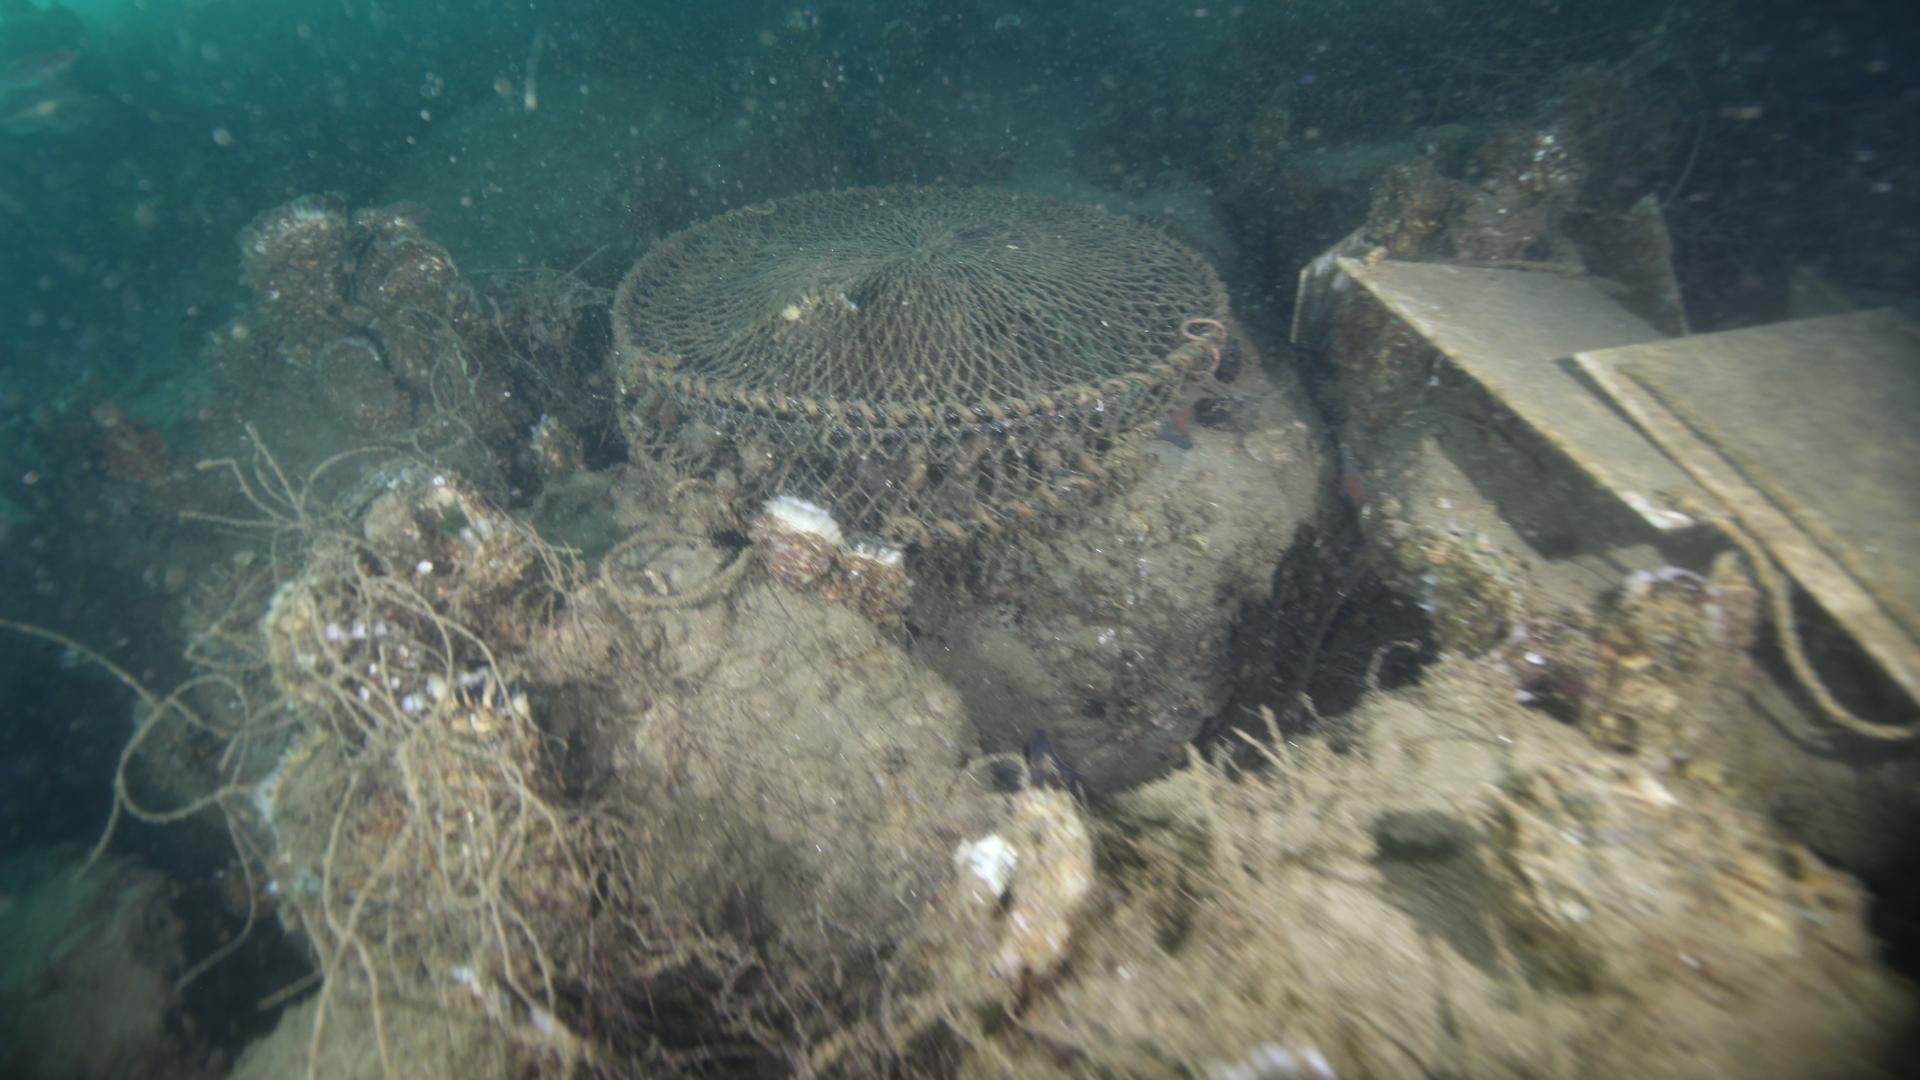circular fish trap: (599, 175, 1251, 568)
